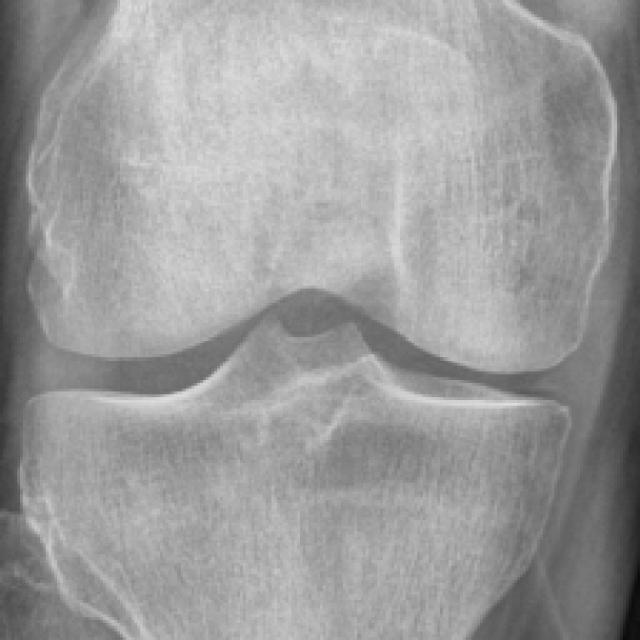femur: (25, 0, 620, 373)
tibia: (19, 314, 571, 640)
